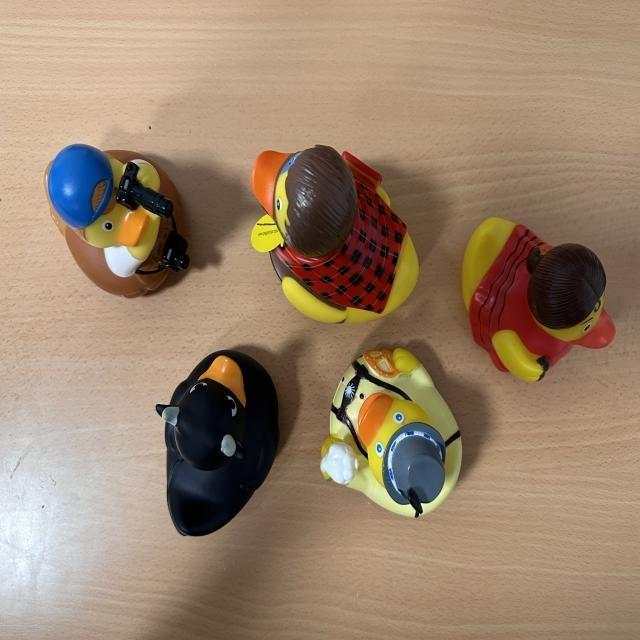rubber-duck: (250, 144, 417, 321), (461, 216, 613, 380), (320, 346, 460, 515), (155, 349, 276, 534), (45, 143, 187, 295)
